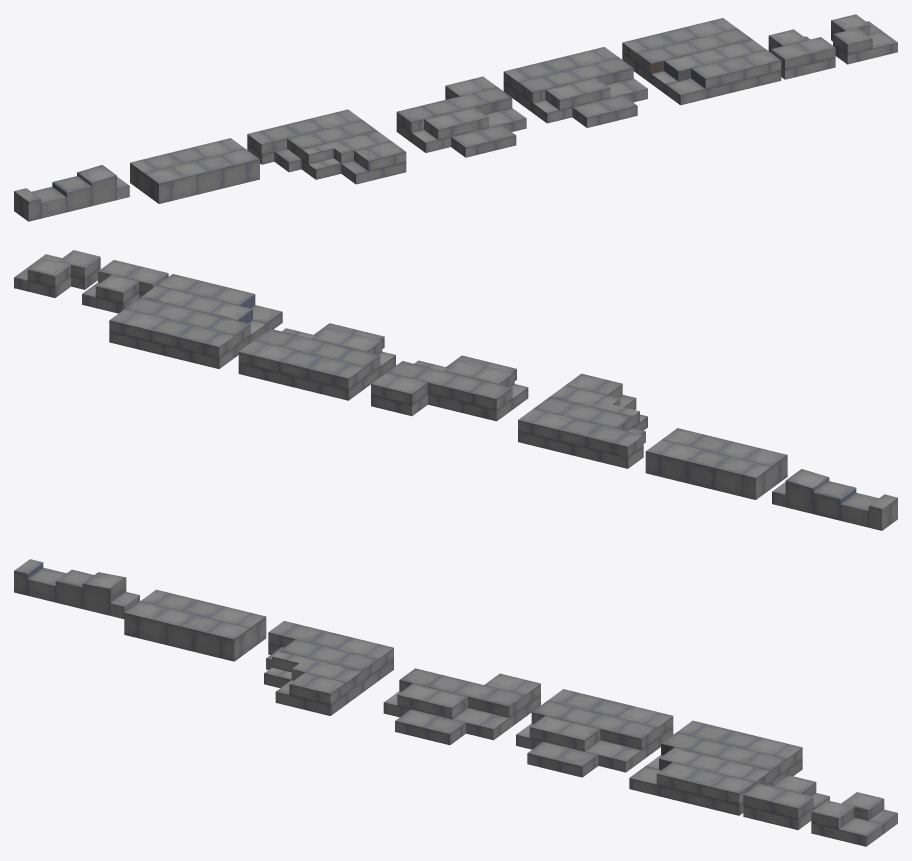
File: GroundPavementModulare01.fbx
The picture shows the model from 3 angles, top to bottom: view 1: azimuth 30°, elevation 25°; view 2: azimuth 150°, elevation 25°; view 3: azimuth 330°, elevation 25°; orthographic projection. The views are drawn at different scales.
Visible parts, largest first — view 1: GroundPavementChipped01, GroundPavementChipped02, GroundPavementChipped04, GroundPavementChipped03, GroundPavementSmall03, GroundPavementSmall04, GroundPavementSmall01, GroundPavementSmall02; view 2: GroundPavementChipped01, GroundPavementChipped02, GroundPavementChipped04, GroundPavementChipped03, GroundPavementSmall03, GroundPavementSmall04, GroundPavementSmall02, GroundPavementSmall01; view 3: GroundPavementChipped01, GroundPavementChipped02, GroundPavementChipped04, GroundPavementChipped03, GroundPavementSmall03, GroundPavementSmall04, GroundPavementSmall02, GroundPavementSmall01.
Part boxes in pixels (<box>): GroundPavementChipped01: <box>622,18,781,105</box>; GroundPavementChipped02: <box>503,47,647,127</box>; GroundPavementChipped04: <box>247,109,406,184</box>; GroundPavementChipped03: <box>396,76,526,157</box>; GroundPavementSmall03: <box>130,138,259,203</box>; GroundPavementSmall04: <box>14,165,129,221</box>; GroundPavementSmall01: <box>768,29,835,79</box>; GroundPavementSmall02: <box>831,14,897,64</box>; GroundPavementChipped01: <box>109,274,282,368</box>; GroundPavementChipped02: <box>238,323,395,400</box>; GroundPavementChipped04: <box>518,373,647,468</box>; GroundPavementChipped03: <box>371,355,528,421</box>; GroundPavementSmall03: <box>645,428,787,499</box>; GroundPavementSmall04: <box>772,469,897,530</box>; GroundPavementSmall02: <box>14,250,100,297</box>; GroundPavementSmall01: <box>82,260,168,313</box>; GroundPavementChipped01: <box>629,720,802,815</box>; GroundPavementChipped02: <box>516,689,673,777</box>; GroundPavementChipped04: <box>264,621,393,715</box>; GroundPavementChipped03: <box>383,668,540,745</box>; GroundPavementSmall03: <box>124,589,266,661</box>; GroundPavementSmall04: <box>14,559,139,618</box>; GroundPavementSmall02: <box>811,792,897,846</box>; GroundPavementSmall01: <box>743,775,829,829</box>.
Bounding box in the file's own units: 23981 × 695 × 2932.
